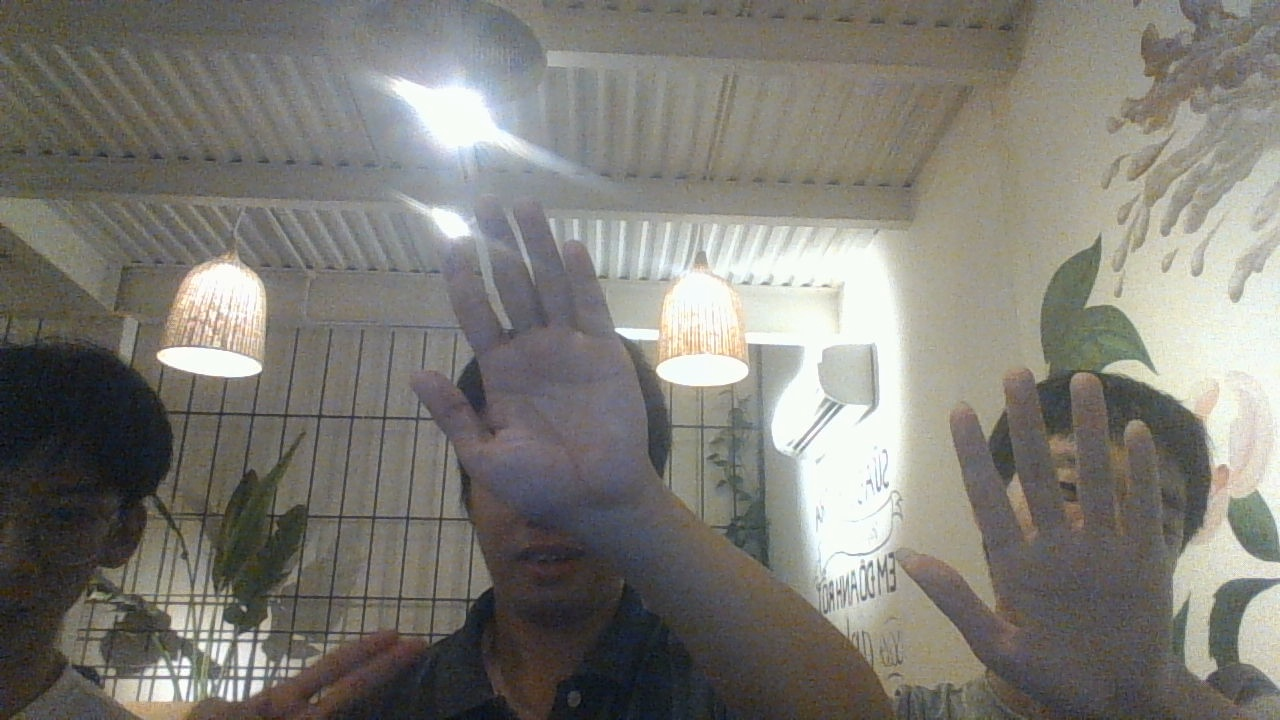check: (895, 363, 1183, 720), (409, 193, 647, 519)
write3: (175, 623, 432, 720)
